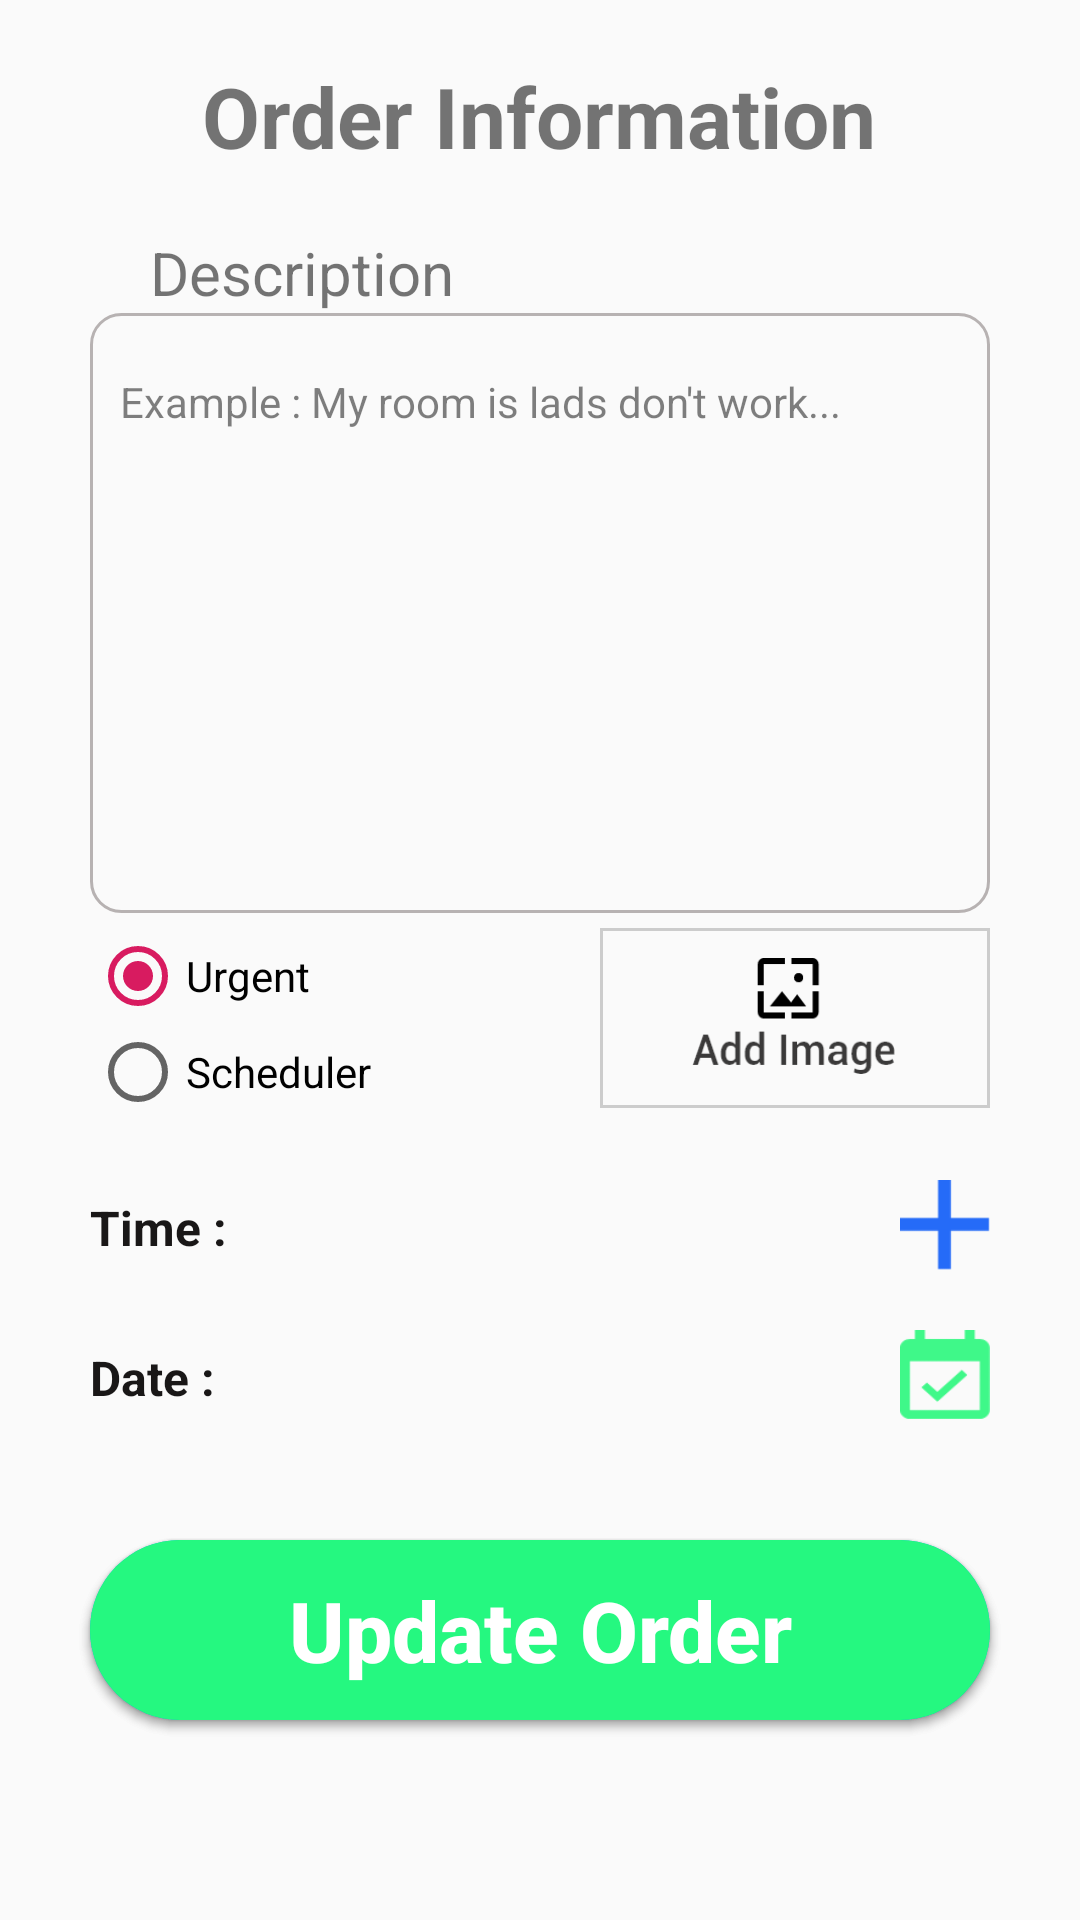

Where icons sit on this 1080 x 1920 app screen, as (left=x1, top=y1, right=x2, bottom=y2):
calender: (left=900, top=1330, right=990, bottom=1419)
plus: (left=900, top=1180, right=990, bottom=1270)
